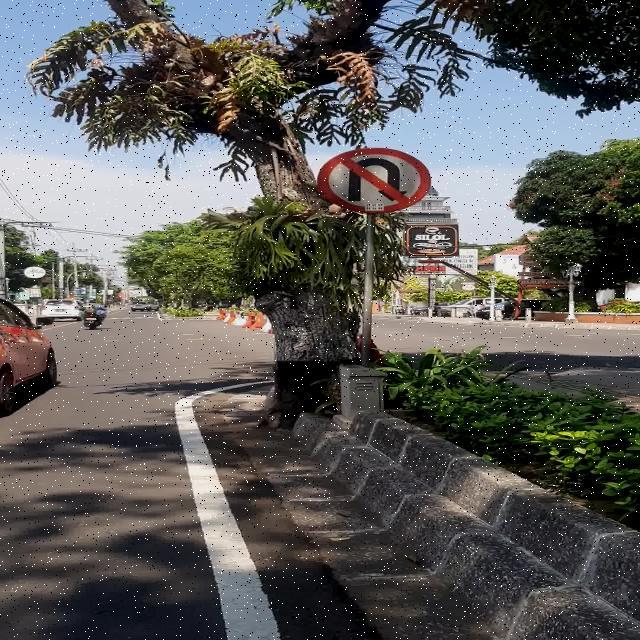Dilarang Putar Balik: (318, 148, 432, 214)
